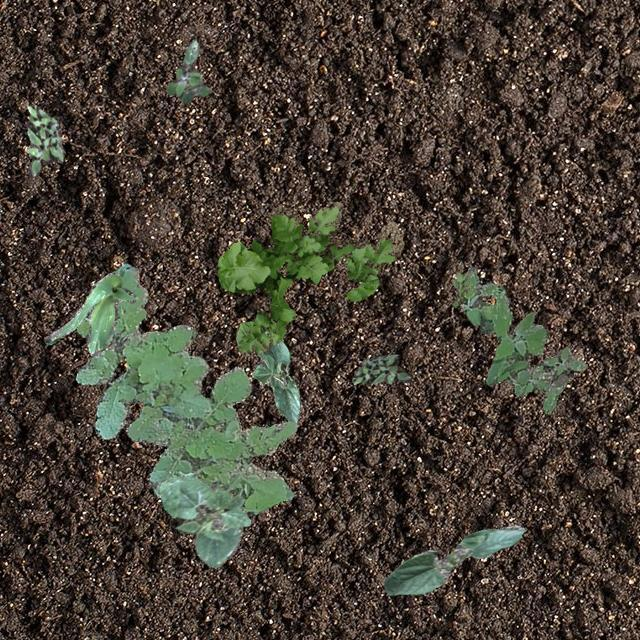crop: (382, 524, 524, 594), (158, 476, 250, 568), (44, 268, 138, 354), (250, 339, 300, 422)
weed: (74, 262, 296, 514), (215, 200, 402, 356), (460, 266, 586, 412), (164, 40, 208, 104), (24, 105, 62, 177), (352, 352, 411, 384), (452, 270, 469, 306)
